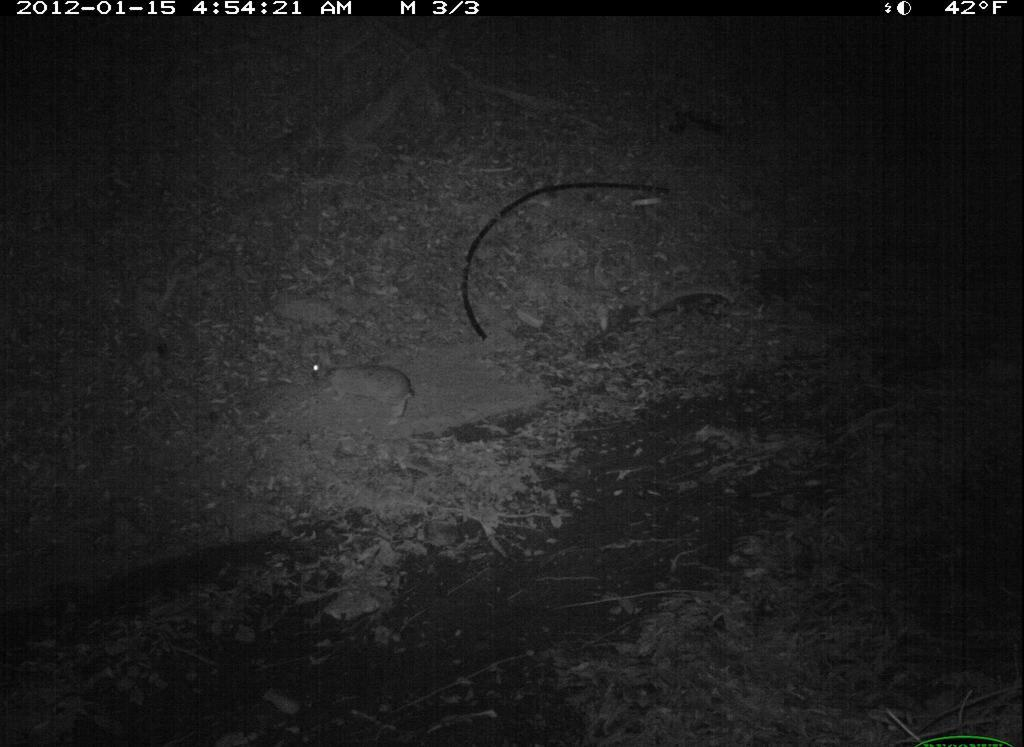rabbit: (303, 346, 428, 433)
